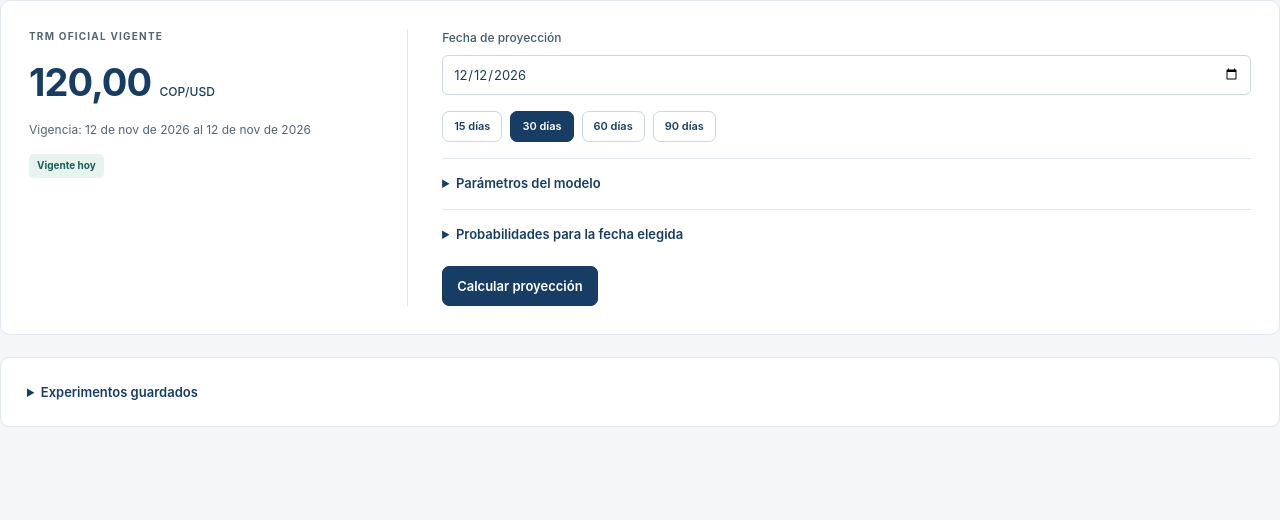
Test case: bloquea datos desactualizados y comunica errores sin inventar resultados
Later steps or results of the test are not shown.
Click the button "Calcular proyección" at (520,286), box [442,266,598,306]
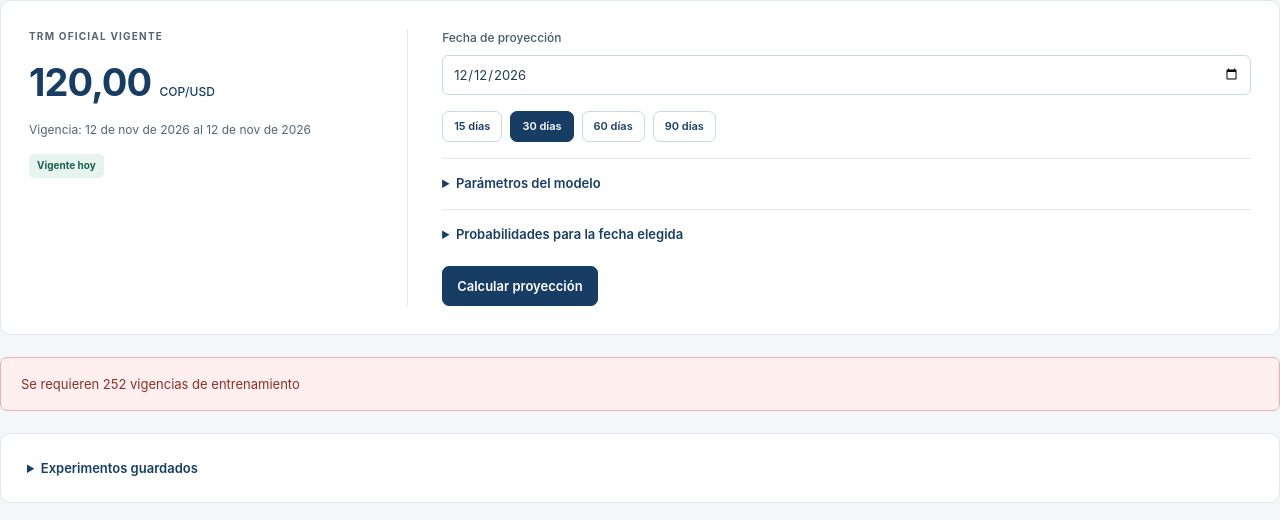
Check: the message shows "252 vigencias", box [21,376,300,392]
